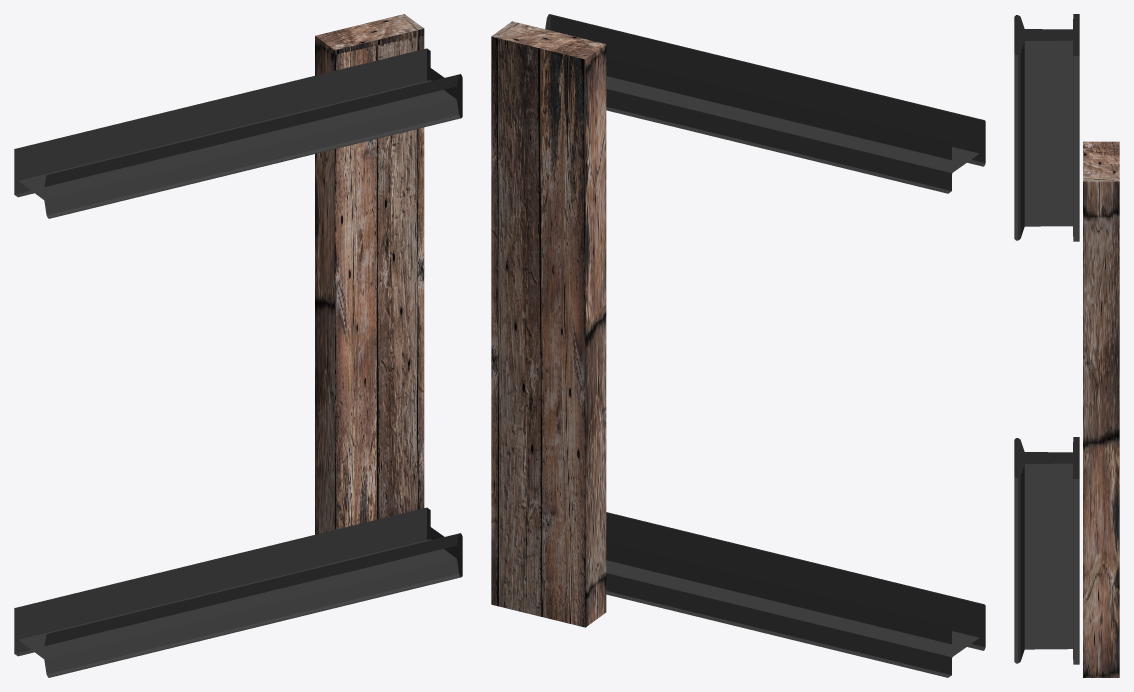
File: train_rail_template.glb
3 renders of one model, left to right at view 1: azimuth 30°, elevation 25°; view 2: azimuth 150°, elevation 25°; view 3: azimuth 270°, elevation 25°, orthographic. The views are drawn at different scales.
Parts seen in each view (by area): view 1: train_rail_template; view 2: train_rail_template; view 3: train_rail_template.
Boxes of the visible parts, x1,y1,x2,y2 form: train_rail_template: [14, 14, 462, 677]; train_rail_template: [491, 14, 985, 677]; train_rail_template: [1014, 14, 1119, 677].
Bounding box in the file's own units: 0.7113 × 0.8873 × 0.1707.
2 materials, 1 textured.
